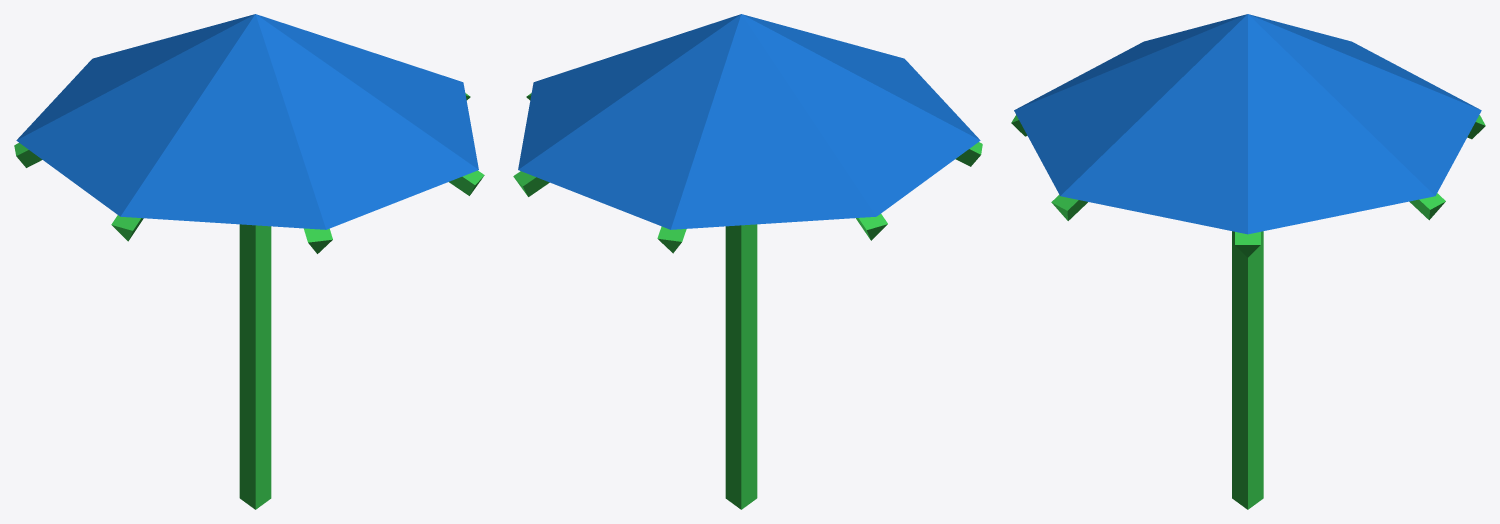
Rendered from SM_cocktail_umbrella.fbx.
3 views of the same model, side by side, from view 1: azimuth 30°, elevation 25°; view 2: azimuth 150°, elevation 25°; view 3: azimuth 270°, elevation 25° (orthographic).
Parts seen in each view (by area): view 1: cocktail_umbrella; view 2: cocktail_umbrella; view 3: cocktail_umbrella.
Boxes of the visible parts, box(x1,y1,x2,y2) form: cocktail_umbrella: box(14, 14, 484, 509); cocktail_umbrella: box(513, 14, 982, 509); cocktail_umbrella: box(1011, 14, 1485, 509).
Bounding box in the file's own units: 11.94 × 13.86 × 12.21.
